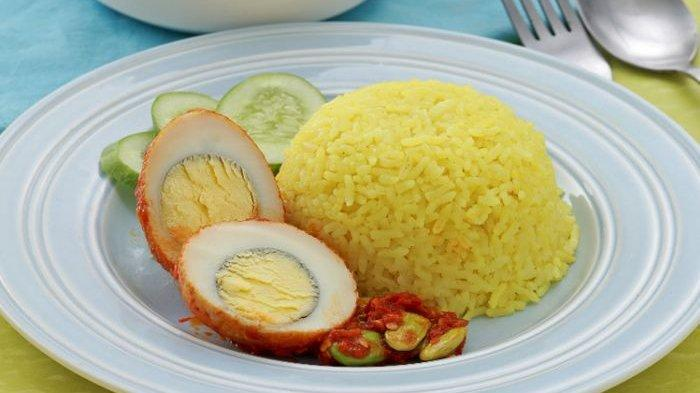buah_sayur_lainnya: (242, 82, 306, 121)
buah_sayur_vitA: (356, 295, 437, 358)
makanan_berpati: (342, 100, 520, 254)
telur: (211, 229, 316, 339), (158, 129, 258, 218)
